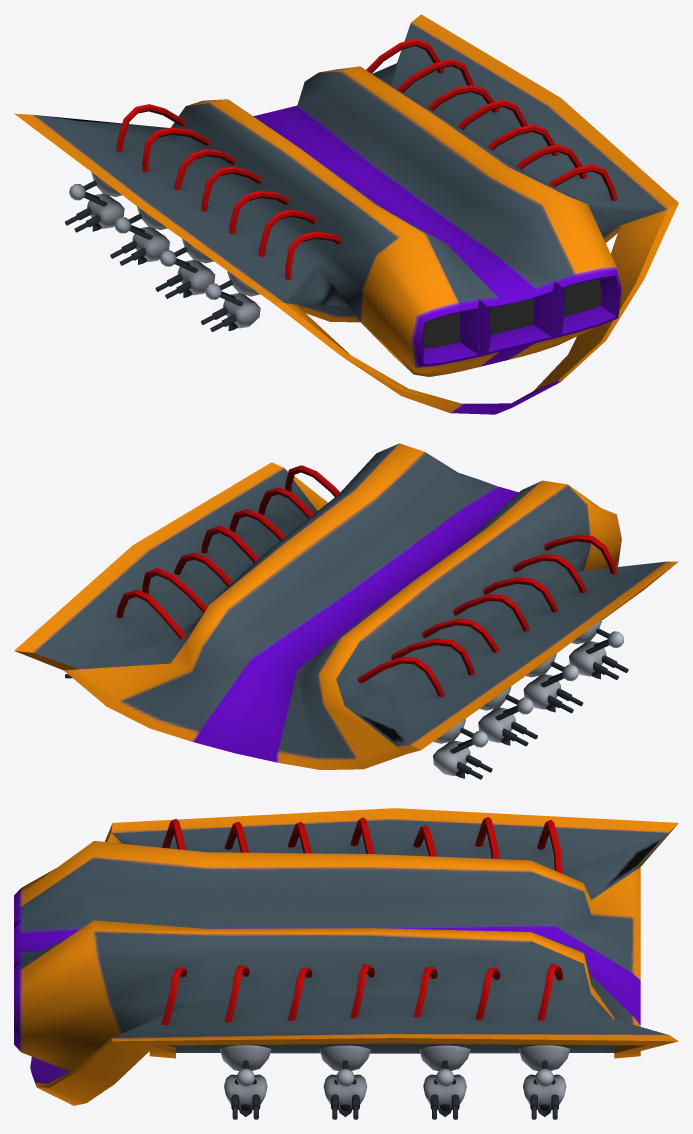
The model's file is Flatbed_Mather.FBX.
3 views of the same model, one above another, from view 1: azimuth 30°, elevation 25°; view 2: azimuth 150°, elevation 25°; view 3: azimuth 270°, elevation 25° (orthographic). The views are drawn at different scales.
Visible parts, largest first — view 1: Flatbed; view 2: Flatbed; view 3: Flatbed.
Part boxes in pixels (x1=…): Flatbed: x1=14, y1=14, x2=678, y2=414; Flatbed: x1=14, y1=443, x2=678, y2=779; Flatbed: x1=14, y1=808, x2=678, y2=1119.
Size of the model in its own units: 105 by 44.36 by 129.
